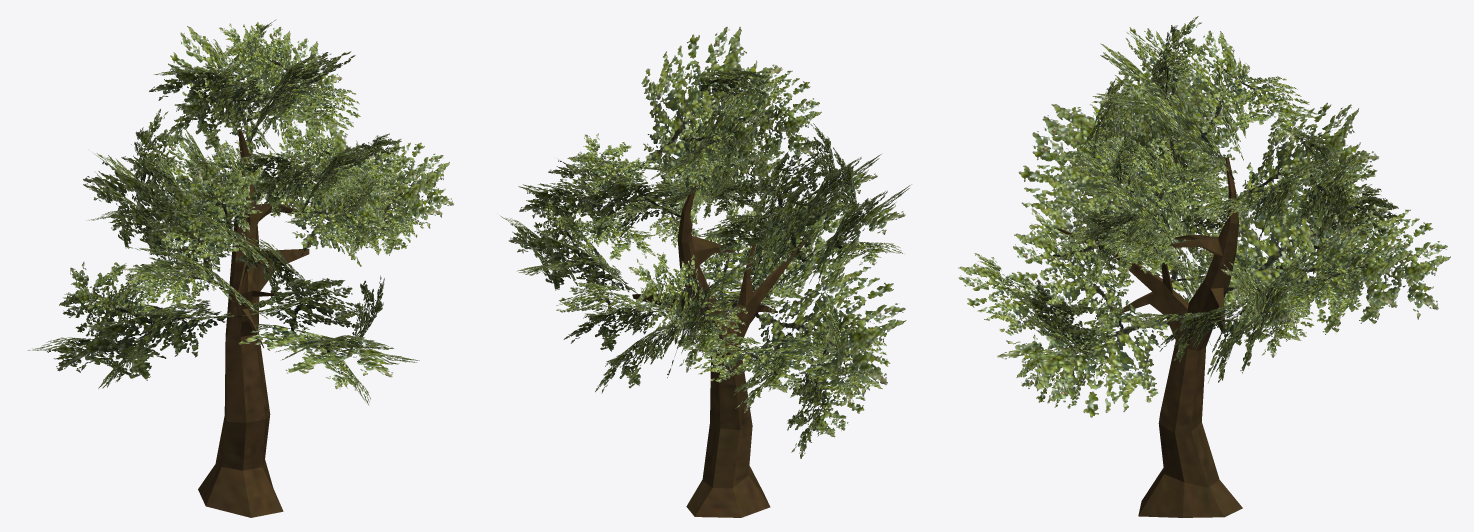
Rendered from Arbol 1.fbx.
3 views of the same model, side by side, from view 1: azimuth 30°, elevation 25°; view 2: azimuth 150°, elevation 25°; view 3: azimuth 270°, elevation 25° (orthographic). The views are drawn at different scales.
Parts seen in each view (by area): view 1: Arbol; view 2: Arbol; view 3: Arbol.
Part boxes in pixels (x1,y1,x2,y2): Arbol: (27,19,453,517); Arbol: (501,27,911,517); Arbol: (958,16,1450,517).
Bounding box in the file's own units: 1552 × 1683 × 1600.
